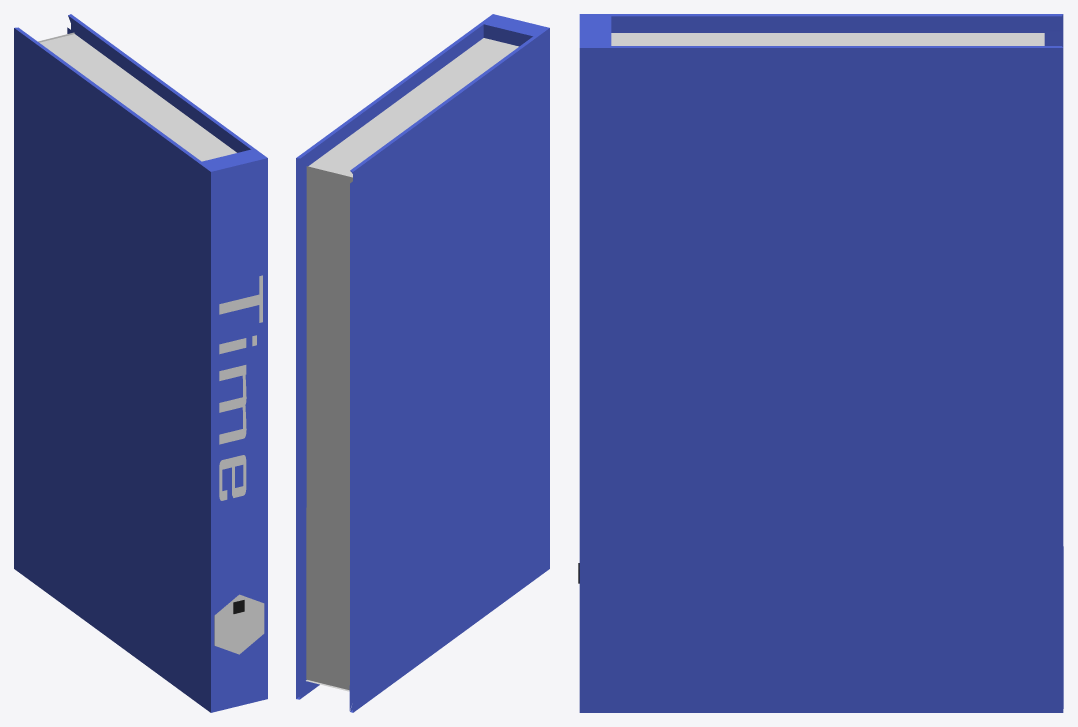
The model's file is Book_Time.fbx.
3 views of the same model, side by side, from view 1: azimuth 30°, elevation 25°; view 2: azimuth 150°, elevation 25°; view 3: azimuth 270°, elevation 25° (orthographic). The views are drawn at different scales.
Visible parts, largest first — view 1: Book, Text, Cylinder; view 2: Book; view 3: Book.
Boxes of the visible parts, x1,y1,x2,y2 form: Book: (14, 14, 267, 712); Text: (219, 275, 262, 500); Cylinder: (214, 594, 264, 654); Book: (296, 14, 549, 712); Book: (579, 14, 1063, 712).
Bounding box in the file's own units: 6.67 × 60.59 × 40.09.
